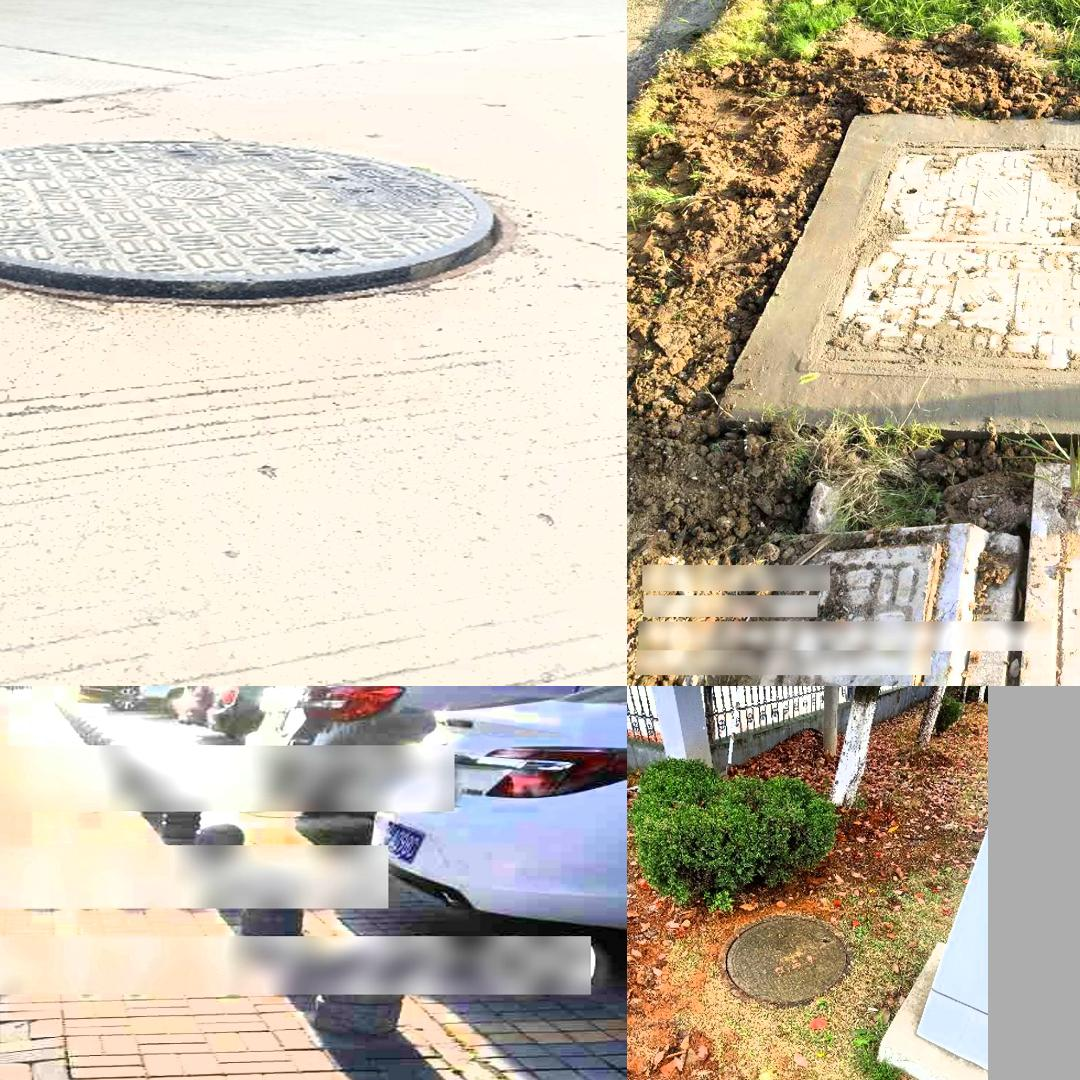good: (0, 138, 520, 307), (796, 144, 1080, 384), (1005, 461, 1080, 686), (717, 912, 850, 1008)
